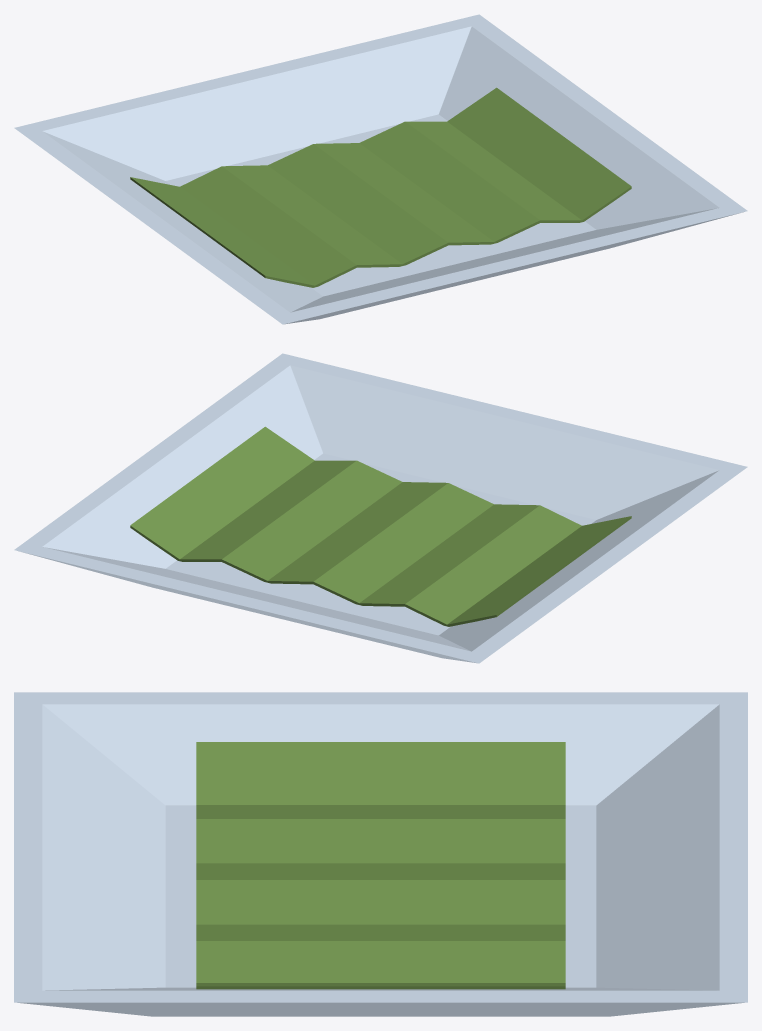
File: ondehplate4.fbx
3 views of the same model, one above another, from view 1: azimuth 30°, elevation 25°; view 2: azimuth 150°, elevation 25°; view 3: azimuth 270°, elevation 25° (orthographic). The views are drawn at different scales.
Parts seen in each view (by area): view 1: Cube, Cube.036; view 2: Cube, Cube.036; view 3: Cube, Cube.036.
Boxes of the visible parts, left/top/right/bottom form: Cube: left=14, top=14, right=747, bottom=324; Cube.036: left=130, top=87, right=631, bottom=287; Cube: left=14, top=353, right=747, bottom=663; Cube.036: left=130, top=426, right=631, bottom=626; Cube: left=14, top=692, right=747, bottom=1016; Cube.036: left=196, top=742, right=565, bottom=989.
Bounding box in the file's own units: 200 × 21.85 × 200.
